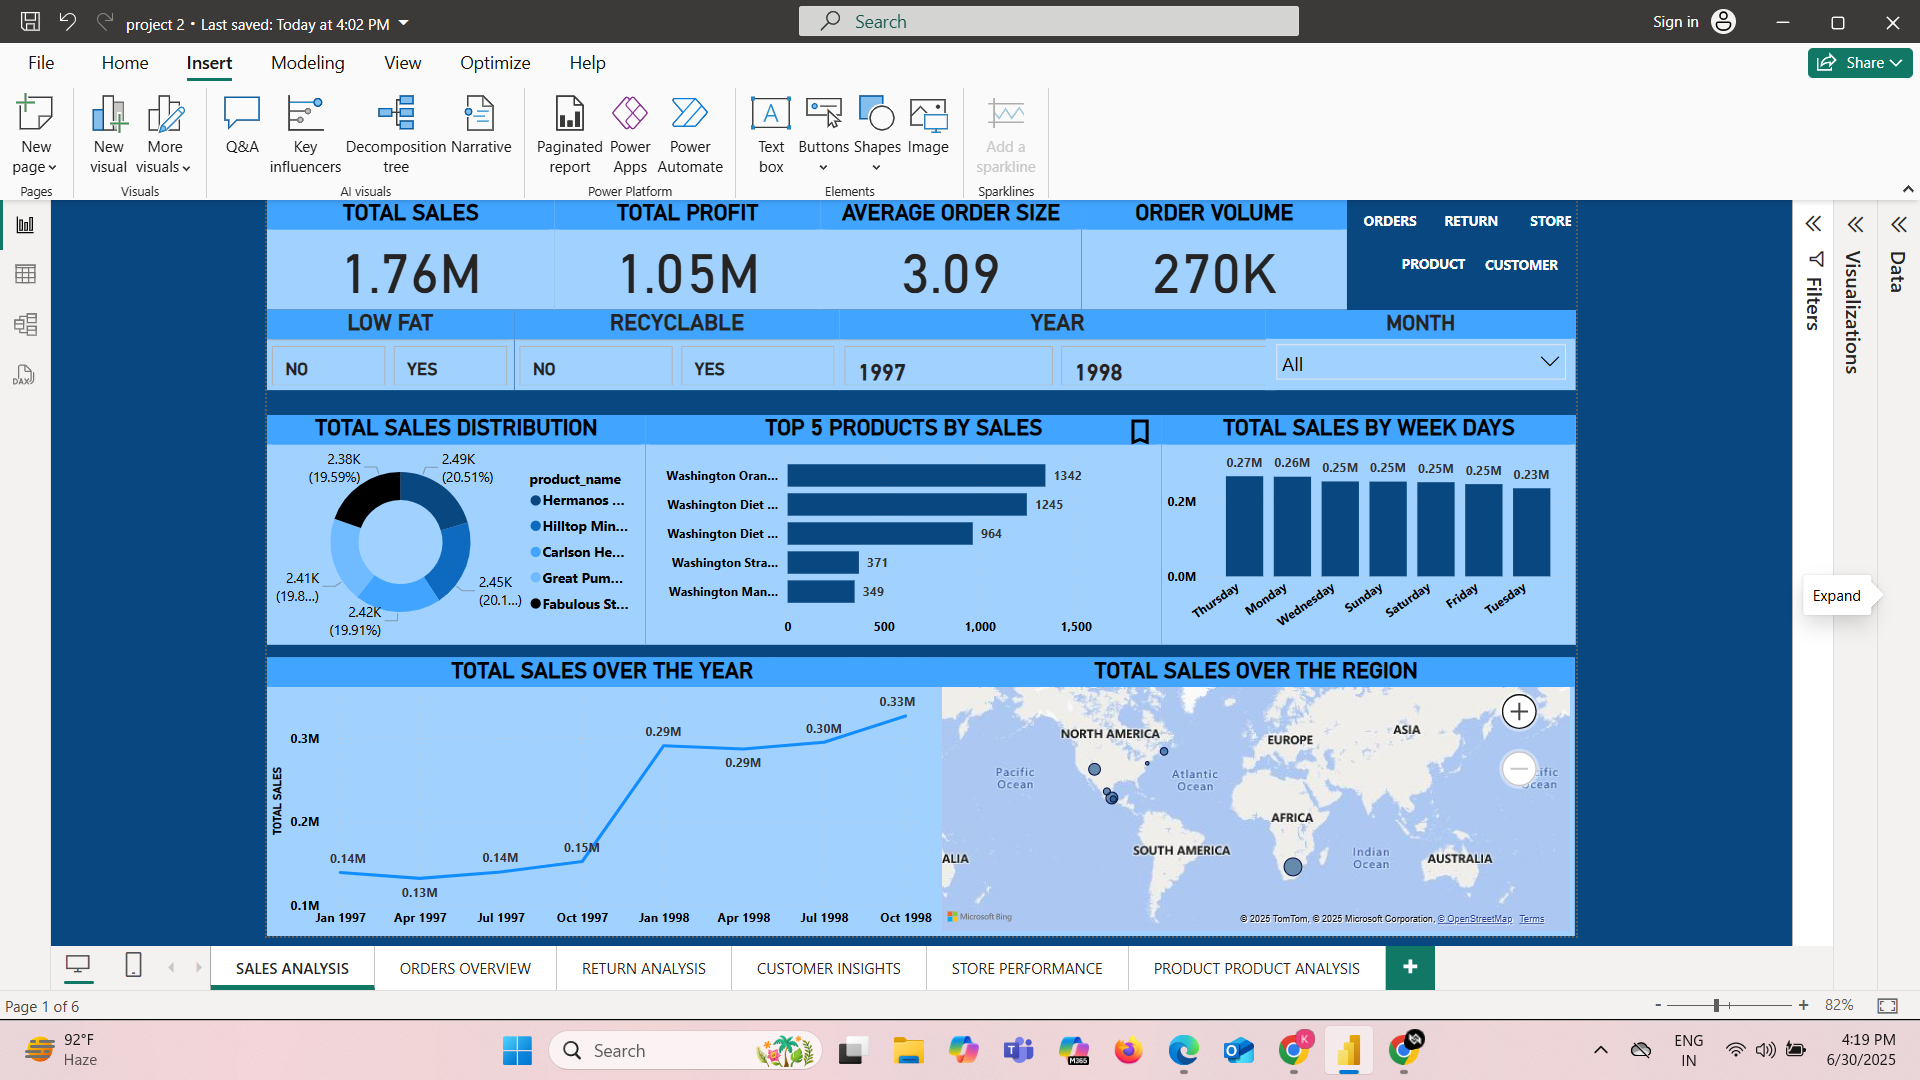

Layout of this report page (visuals, bound fields, positions):
{"tool":"powerbi","page":{"name":"SALES ANALYSIS","canvas":[1280,720],"ordinal":0},"visuals":[{"type":"lineChart","title":"TOTAL SALES OVER THE YEAR","fields":{"Y":["transactions.TOTAL SALES"],"Category":["calendar.date.Variation.Date Hierarchy.Year","calendar.date.Variation.Date Hierarchy.Quarter"]},"box":[0,447.3,655.9,273.1],"z":0},{"type":"barChart","title":"TOP 5 PRODUCTS BY SALES","fields":{"Category":["products.product_name"],"Y":["transactions.TOTAL SALES"]},"box":[370.5,209.9,505,225],"z":1000},{"type":"map","title":"TOTAL SALES OVER THE REGION","fields":{"Size":["transactions.TOTAL SALES"],"Category":["regions.sales_region"],"Y":["transactions.TOTAL SALES"]},"box":[655.9,447.3,624.4,273.1],"z":2000},{"type":"donutChart","title":"TOTAL SALES DISTRIBUTION","fields":{"Category":["products.product_name"],"Y":["transactions.TOTAL SALES"]},"box":[0,209.9,370.5,225],"z":3000},{"type":"card","title":"TOTAL SALES","fields":{"Values":["transactions.TOTAL SALES"]},"box":[0,0,281.3,107],"z":4000},{"type":"card","title":"TOTAL PROFIT","fields":{"Values":["transactions.TOTAL PROFIT"]},"box":[281.3,0,260.7,107],"z":5000},{"type":"card","title":"AVERAGE ORDER SIZE","fields":{"Values":["transactions.AVERAGE ORDER SIZE"]},"box":[542,0,255.2,107],"z":6000},{"type":"card","title":"ORDER VOLUME","fields":{"Values":["transactions.ORDER VOLUME"]},"box":[797.3,0,259.3,107],"z":7000},{"type":"columnChart","title":"TOTAL SALES BY WEEK DAYS","fields":{"Category":["calendar.Day Name"],"Y":["transactions.TOTAL SALES"]},"box":[875.5,209.9,404.8,225],"z":8000},{"type":"advancedSlicerVisual","title":"LOW FAT","fields":{"Values":["products.low_fat"]},"box":[0,107,241.5,78.2],"z":9000},{"type":"advancedSlicerVisual","title":"RECYCLABLE","fields":{"Values":["products.recyclable"]},"box":[241.5,107,318.4,78.2],"z":10000},{"type":"advancedSlicerVisual","title":"YEAR","fields":{"Values":["calendar.Year"]},"box":[559.9,107,426.8,78.2],"z":11000},{"type":"slicer","title":"MONTH","fields":{"Values":["calendar.Month Name"]},"box":[977,107,303.3,78.2],"z":12000},{"type":"actionButton","box":[1176.4,42.8,90.5,40.4],"z":12002},{"type":"actionButton","box":[1128.7,0,79.5,40.4],"z":12003},{"type":"actionButton","box":[1056.5,0,72.1,40.4],"z":12004},{"type":"actionButton","box":[1216.7,0,63.6,40.4],"z":12005},{"type":"actionButton","box":[1088.3,41.6,88,40.4],"z":12006},{"type":"actionButton","box":[837.6,210.3,37.9,33],"z":12007}]}

Visuals, with their boxes on the page's 1280x720 design canvas (x1, y1, x2, y2). These are canvas units, not pixel positions in the 1920x1080 screenshot, which may show the page scaled, cropped or inside an application window:
"TOTAL SALES OVER THE YEAR" lineChart: {"x1": 0, "y1": 447, "x2": 656, "y2": 720}
"TOP 5 PRODUCTS BY SALES" barChart: {"x1": 370, "y1": 210, "x2": 876, "y2": 435}
"TOTAL SALES OVER THE REGION" map: {"x1": 656, "y1": 447, "x2": 1280, "y2": 720}
"TOTAL SALES DISTRIBUTION" donutChart: {"x1": 0, "y1": 210, "x2": 370, "y2": 435}
"TOTAL SALES" card: {"x1": 0, "y1": 0, "x2": 281, "y2": 107}
"TOTAL PROFIT" card: {"x1": 281, "y1": 0, "x2": 542, "y2": 107}
"AVERAGE ORDER SIZE" card: {"x1": 542, "y1": 0, "x2": 797, "y2": 107}
"ORDER VOLUME" card: {"x1": 797, "y1": 0, "x2": 1057, "y2": 107}
"TOTAL SALES BY WEEK DAYS" columnChart: {"x1": 876, "y1": 210, "x2": 1280, "y2": 435}
"LOW FAT" advancedSlicerVisual: {"x1": 0, "y1": 107, "x2": 242, "y2": 185}
"RECYCLABLE" advancedSlicerVisual: {"x1": 242, "y1": 107, "x2": 560, "y2": 185}
"YEAR" advancedSlicerVisual: {"x1": 560, "y1": 107, "x2": 987, "y2": 185}
"MONTH" slicer: {"x1": 977, "y1": 107, "x2": 1280, "y2": 185}
actionButton: {"x1": 1176, "y1": 43, "x2": 1267, "y2": 83}
actionButton: {"x1": 1129, "y1": 0, "x2": 1208, "y2": 40}
actionButton: {"x1": 1056, "y1": 0, "x2": 1129, "y2": 40}
actionButton: {"x1": 1217, "y1": 0, "x2": 1280, "y2": 40}
actionButton: {"x1": 1088, "y1": 42, "x2": 1176, "y2": 82}
actionButton: {"x1": 838, "y1": 210, "x2": 876, "y2": 243}
